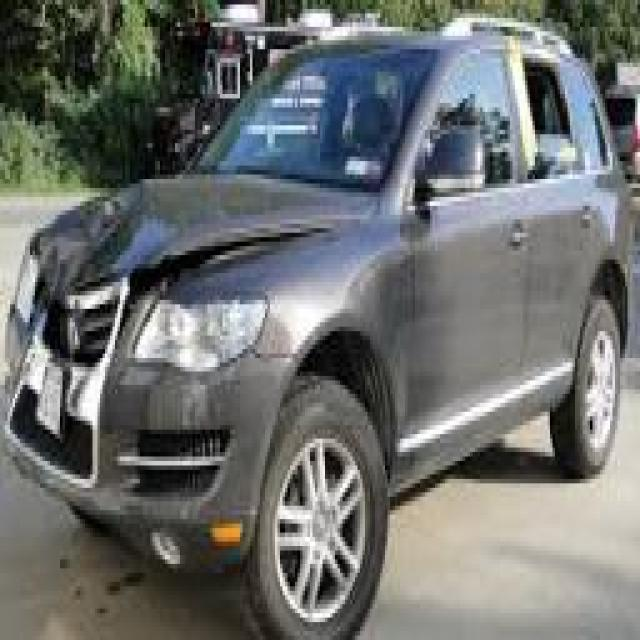replaceable: (15, 168, 144, 474)
